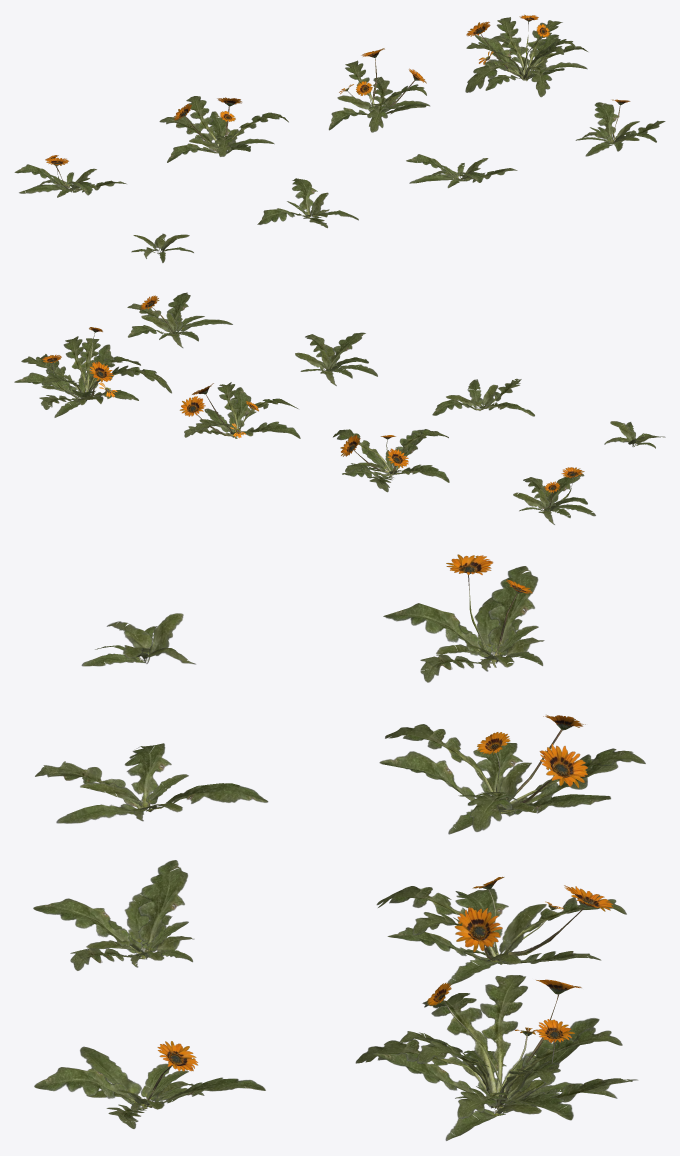
Rendered from flower_gazania.glb.
The picture shows the model from 3 angles, top to bottom: view 1: azimuth 30°, elevation 25°; view 2: azimuth 150°, elevation 25°; view 3: azimuth 270°, elevation 25°; orthographic projection. The views are drawn at different scales.
Visible parts, largest first — view 1: flower_gazania_h_LOD0, flower_gazania_f_LOD0, flower_gazania_g_LOD0, flower_gazania_d_LOD0, flower_gazania_e_LOD0, flower_gazania_b_LOD0, flower_gazania_c_LOD0, flower_gazania_a_LOD0; view 2: flower_gazania_h_LOD0, flower_gazania_g_LOD0, flower_gazania_f_LOD0, flower_gazania_d_LOD0, flower_gazania_e_LOD0, flower_gazania_c_LOD0, flower_gazania_b_LOD0, flower_gazania_a_LOD0; view 3: flower_gazania_h_LOD0, flower_gazania_f_LOD0, flower_gazania_g_LOD0, flower_gazania_e_LOD0, flower_gazania_c_LOD0, flower_gazania_d_LOD0, flower_gazania_b_LOD0, flower_gazania_a_LOD0.
Boxes of the visible parts, x1,y1,x2,y2 form: flower_gazania_h_LOD0: [465, 14, 587, 97]; flower_gazania_f_LOD0: [159, 96, 288, 162]; flower_gazania_g_LOD0: [328, 48, 430, 132]; flower_gazania_d_LOD0: [575, 99, 665, 156]; flower_gazania_e_LOD0: [14, 155, 126, 197]; flower_gazania_b_LOD0: [257, 178, 358, 228]; flower_gazania_c_LOD0: [406, 154, 517, 188]; flower_gazania_a_LOD0: [131, 233, 193, 262]; flower_gazania_h_LOD0: [14, 327, 171, 417]; flower_gazania_g_LOD0: [179, 382, 300, 438]; flower_gazania_f_LOD0: [333, 429, 449, 492]; flower_gazania_d_LOD0: [127, 292, 232, 347]; flower_gazania_e_LOD0: [513, 467, 595, 524]; flower_gazania_c_LOD0: [295, 332, 377, 386]; flower_gazania_b_LOD0: [432, 378, 534, 416]; flower_gazania_a_LOD0: [604, 421, 665, 448]; flower_gazania_h_LOD0: [355, 975, 637, 1140]; flower_gazania_f_LOD0: [379, 714, 645, 834]; flower_gazania_g_LOD0: [376, 876, 626, 985]; flower_gazania_e_LOD0: [383, 554, 544, 682]; flower_gazania_c_LOD0: [33, 860, 194, 970]; flower_gazania_d_LOD0: [34, 1041, 265, 1128]; flower_gazania_b_LOD0: [35, 743, 268, 823]; flower_gazania_a_LOD0: [81, 613, 195, 666].
Bounding box in the file's own units: 1.48 × 0.1653 × 0.7028.
1 material, 1 textured.
